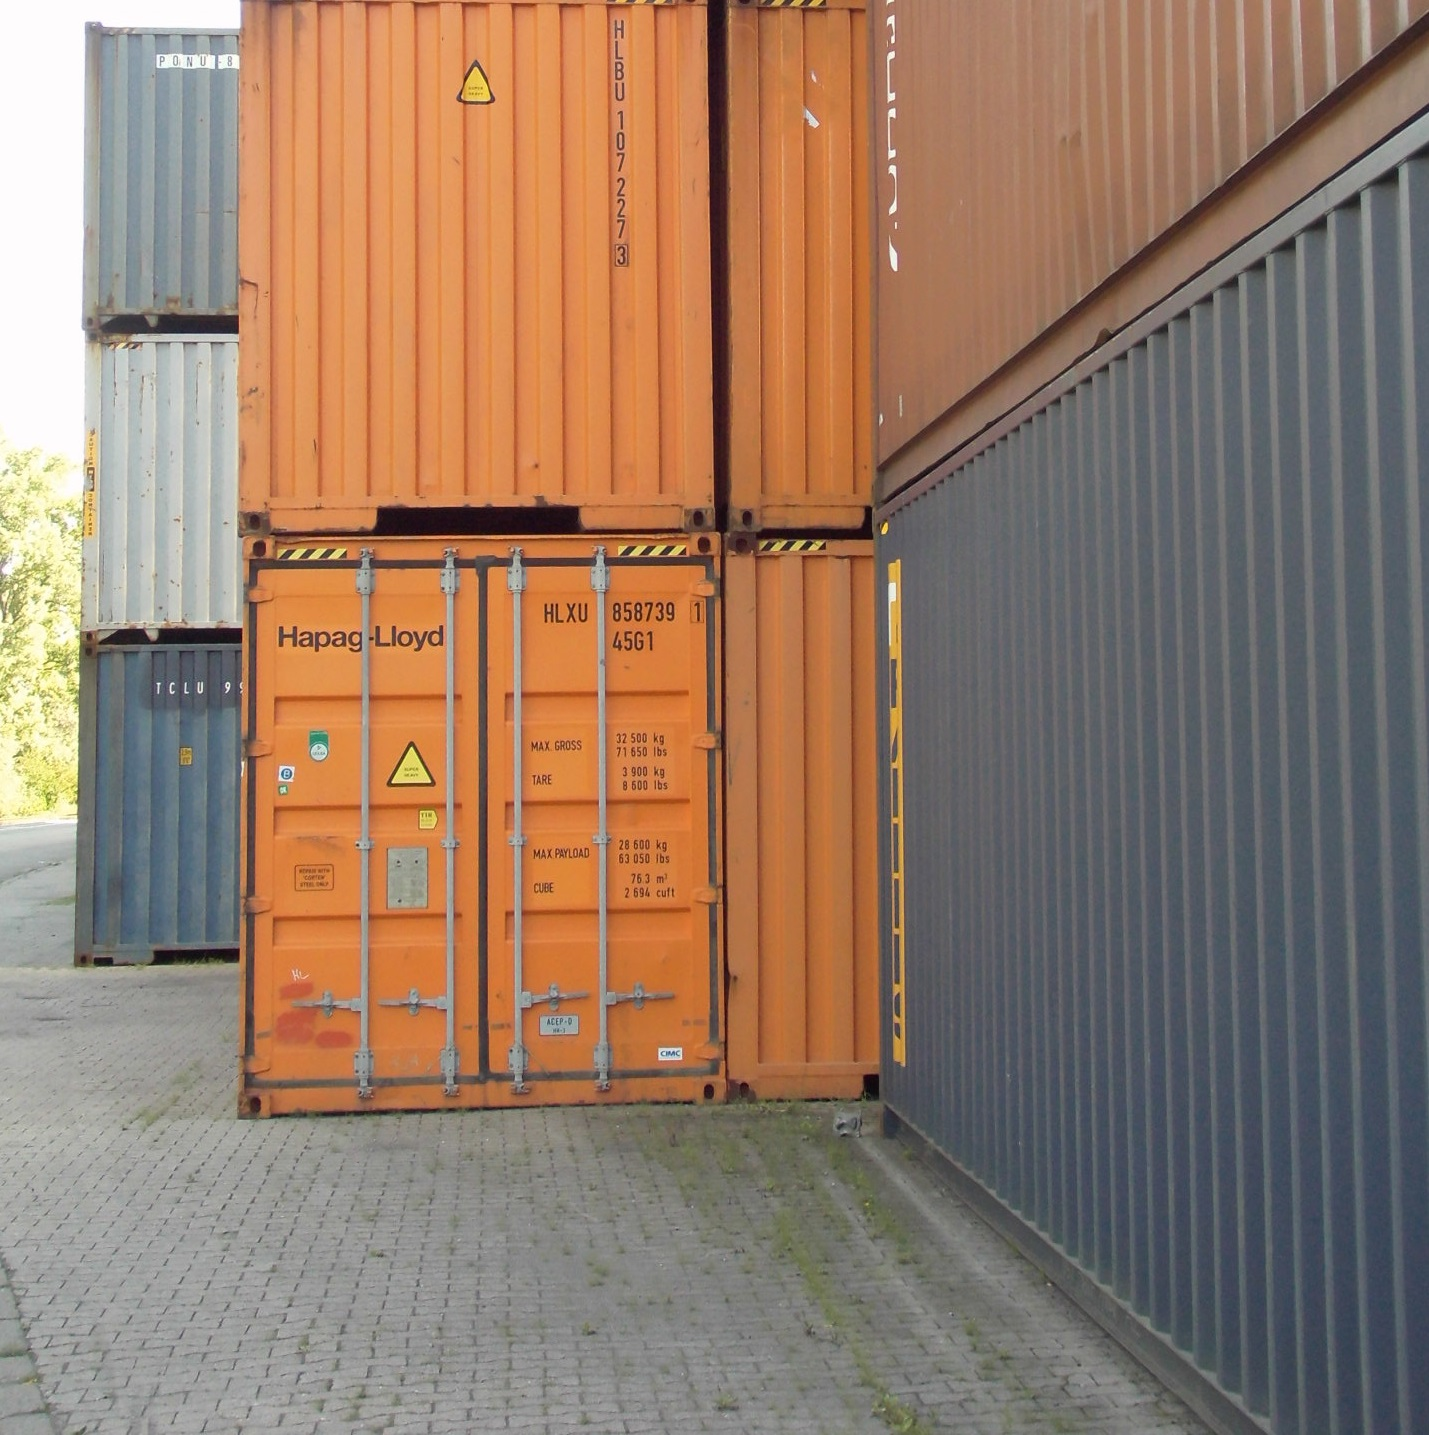container_door: (236, 532, 722, 1103)
container_no_door: (239, 1, 713, 535), (79, 332, 243, 649), (79, 650, 243, 967), (81, 20, 245, 337)
